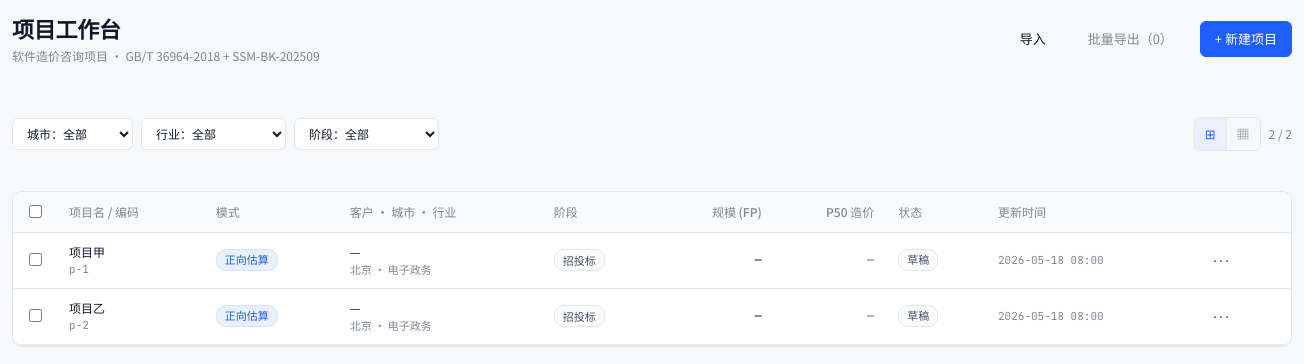
Test case: ProjectList 选择态 + 导出导入 (v2.7) › 全选勾选后选中所有项目
Click the checkbox with test id "select-all": (36, 211) [29,204,42,218]
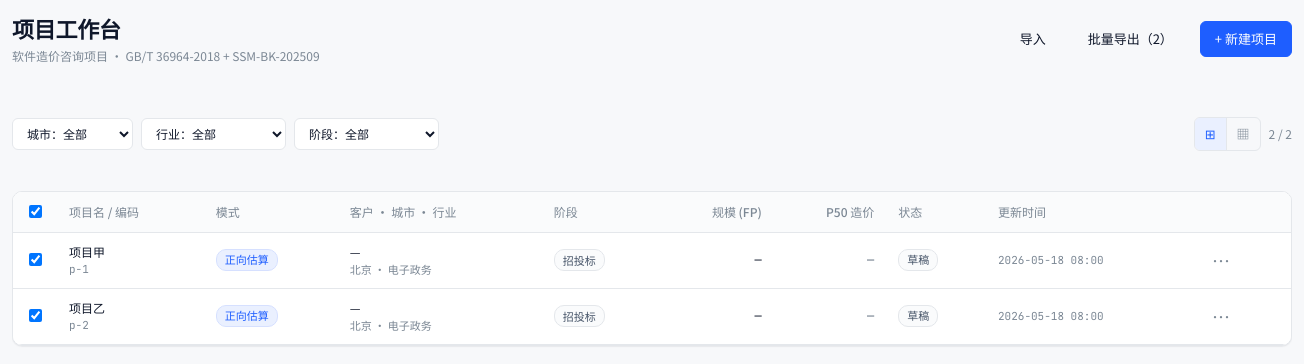
Now the button with test id "export-btn" is enabled, box [1073,20,1188,56]
